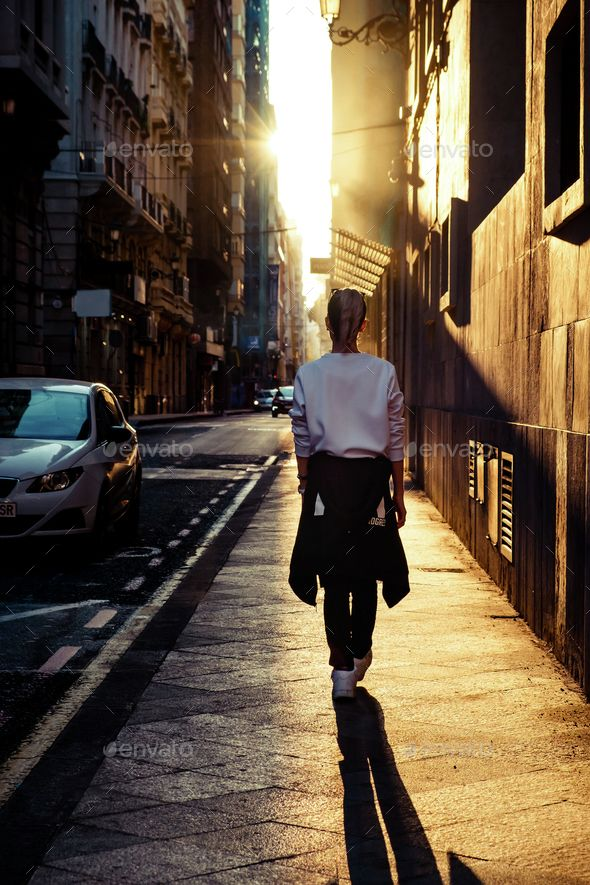Person: (288, 286, 413, 699)
